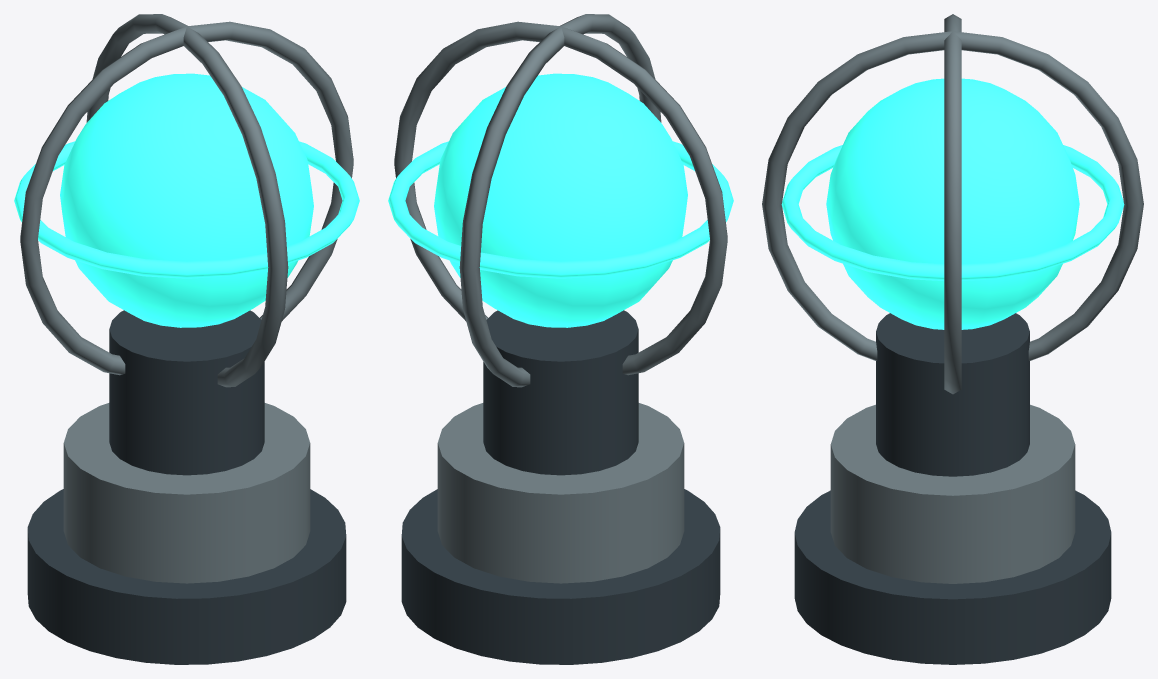
Rendered from phase-beacon.glb.
The picture shows the model from 3 angles, left to right: view 1: azimuth 30°, elevation 25°; view 2: azimuth 150°, elevation 25°; view 3: azimuth 270°, elevation 25°; orthographic projection.
Parts seen in each view (by area): view 1: Mobile phase beacon / Brushed titanium, Mobile phase beacon / Gunmetal, Mobile phase beacon / Phase emitter; view 2: Mobile phase beacon / Brushed titanium, Mobile phase beacon / Gunmetal, Mobile phase beacon / Phase emitter; view 3: Mobile phase beacon / Brushed titanium, Mobile phase beacon / Gunmetal, Mobile phase beacon / Phase emitter.
Boxes of the visible parts, bbox=[...] form: Mobile phase beacon / Brushed titanium: bbox=[20, 14, 353, 583]; Mobile phase beacon / Gunmetal: bbox=[27, 310, 346, 664]; Mobile phase beacon / Phase emitter: bbox=[14, 73, 359, 327]; Mobile phase beacon / Brushed titanium: bbox=[394, 14, 727, 583]; Mobile phase beacon / Gunmetal: bbox=[401, 310, 720, 664]; Mobile phase beacon / Phase emitter: bbox=[388, 73, 733, 327]; Mobile phase beacon / Brushed titanium: bbox=[762, 14, 1143, 583]; Mobile phase beacon / Gunmetal: bbox=[794, 313, 1111, 664]; Mobile phase beacon / Phase emitter: bbox=[781, 78, 1124, 329].
Size of the model in its own units: 0.844 by 1.38 by 0.844.
